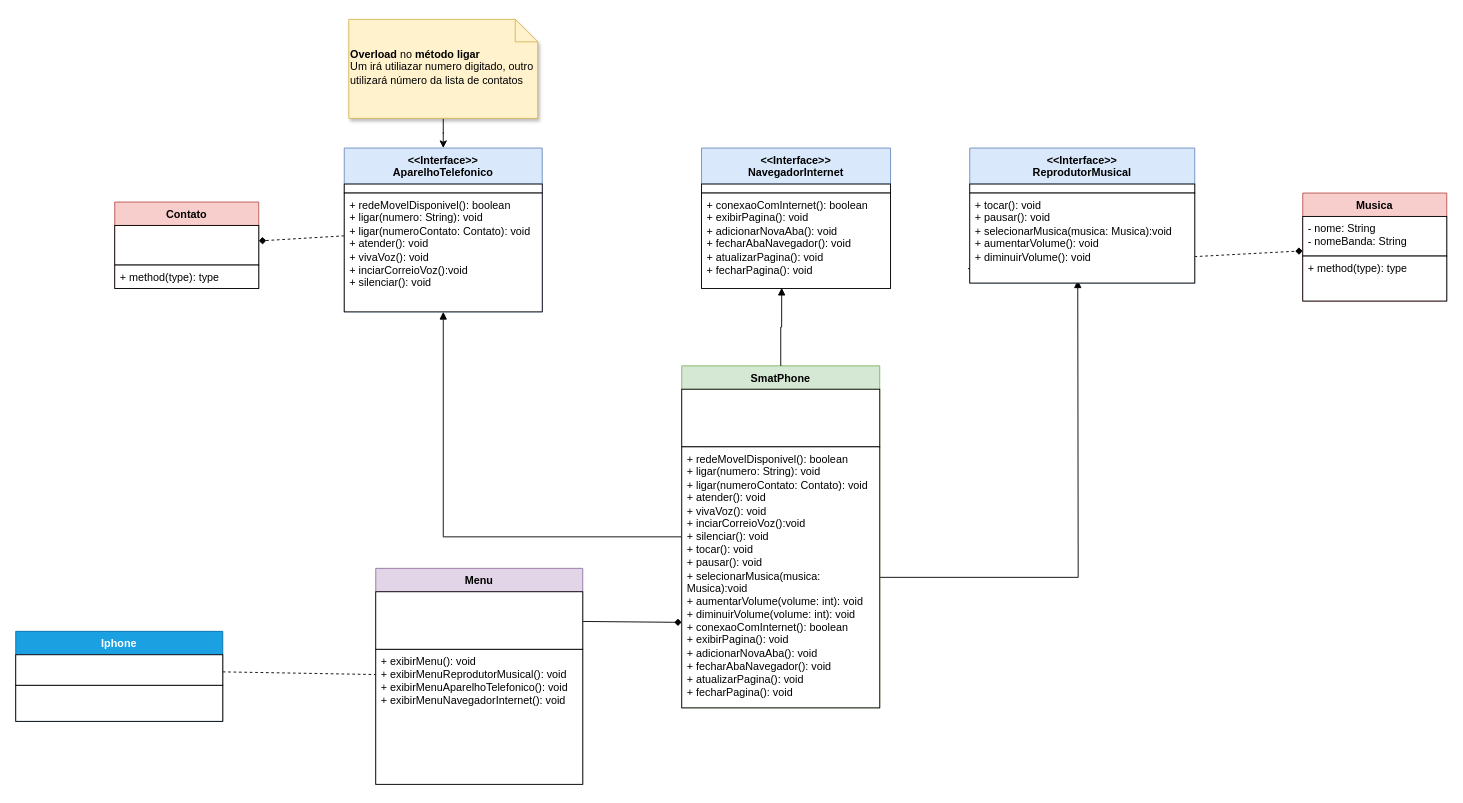
Image size: 1463x803. Some labels were removed from this diagram. Here are the shapes that lost their labels. From the top down, the centre of each, then its label:
(x=186, y=245): - nome: String - numero: String
(x=780, y=417): - volume: int - VOLUME_MAXIMO: int - VOLUME_MINIMO: int
(x=479, y=620): - scanner: Scanner - iphone: SmartPhone - volumeMidia: int
(x=119, y=702): + main(): void
